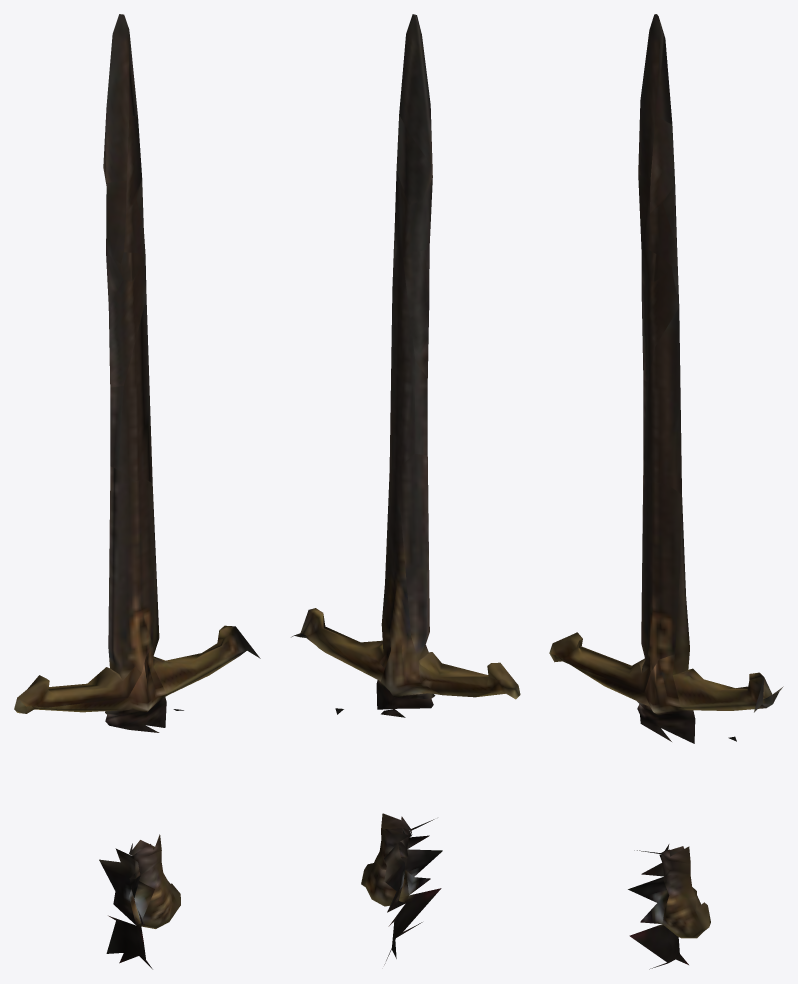
Rendered from kingslayer-sword.glb.
3 views of the same model, side by side, from view 1: azimuth 30°, elevation 25°; view 2: azimuth 150°, elevation 25°; view 3: azimuth 330°, elevation 25° (orthographic). The views are drawn at different scales.
Visible parts, largest first — view 1: tripo_node_bf2c809a_tripo_mat_bf2c809a_0; view 2: tripo_node_bf2c809a_tripo_mat_bf2c809a_0; view 3: tripo_node_bf2c809a_tripo_mat_bf2c809a_0.
Part boxes in pixels (x1,y1,x2,y2): tripo_node_bf2c809a_tripo_mat_bf2c809a_0: (14, 14, 260, 969); tripo_node_bf2c809a_tripo_mat_bf2c809a_0: (291, 14, 520, 964); tripo_node_bf2c809a_tripo_mat_bf2c809a_0: (549, 14, 783, 969).
Bounding box in the file's own units: 0.1027 × 0.4188 × 0.0408.
1 material, 1 textured.
